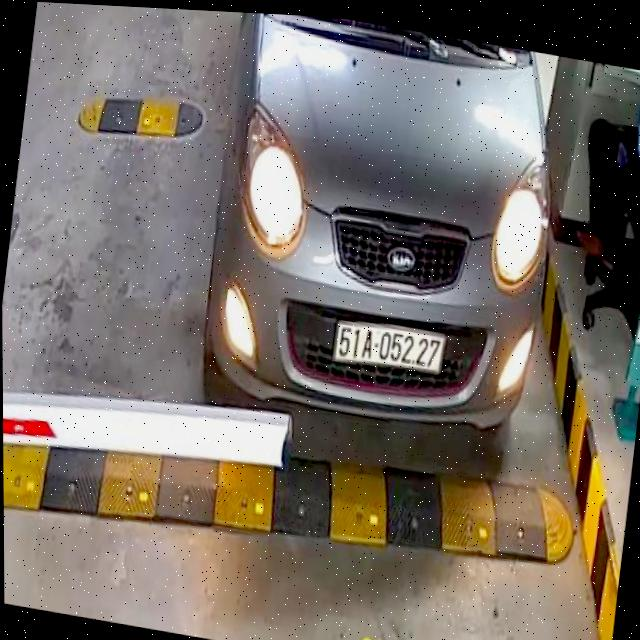car: (186, 10, 579, 458)
plate: (328, 314, 448, 385)
